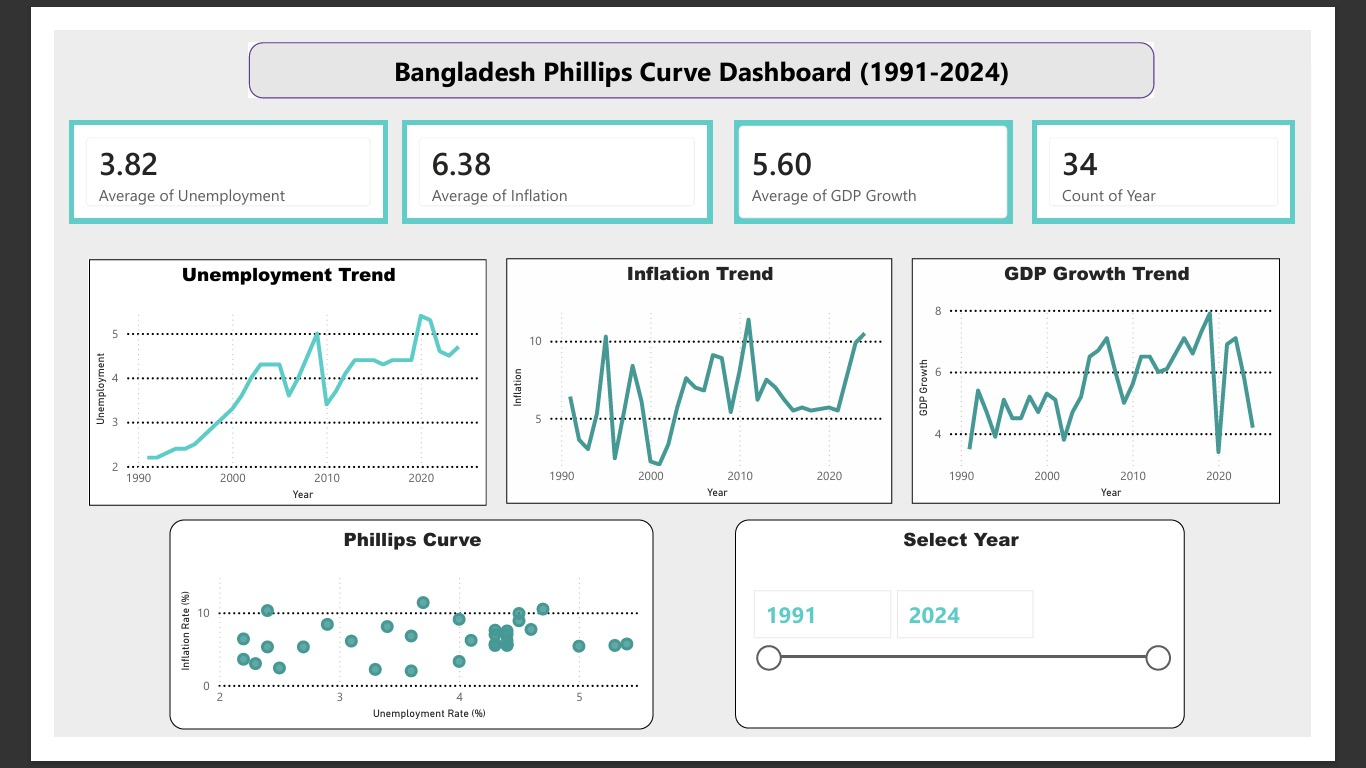

The dashboard page shown, as its layout file describes it:
{"tool":"powerbi","page":{"name":"Page 1","canvas":[1280,720],"ordinal":0},"visuals":[{"type":"cardVisual","fields":{"Data":["Avg(Cleaned_ Data.Unemployment)"]},"box":[15.1,92.4,324.2,104.1],"z":0},{"type":"cardVisual","fields":{"Data":["Avg(Cleaned_ Data.Inflation)"]},"box":[354.4,92.4,315.8,104.1],"z":1000},{"type":"cardVisual","fields":{"Data":["CountNonNull(Cleaned_ Data.Year)"]},"box":[996.1,92.4,267.1,104.1],"z":2000},{"type":"lineChart","title":"Unemployment Trend","fields":{"Category":["Cleaned_ Data.Year"],"Y":["Sum(Cleaned_ Data.Unemployment)"]},"box":[35.3,233.5,404.8,250.3],"z":3000},{"type":"lineChart","title":"Inflation Trend","fields":{"Category":["Cleaned_ Data.Year"],"Y":["Sum(Cleaned_ Data.Inflation)"]},"box":[460.3,231.8,393.1,250.3],"z":4000},{"type":"lineChart","title":"GDP Growth Trend","fields":{"Category":["Cleaned_ Data.Year"],"Y":["Sum(Cleaned_ Data.GDP Growth)"]},"box":[873.5,231.8,374.6,250.3],"z":5000},{"type":"scatterChart","title":"Phillips Curve","fields":{"X":["Sum(Cleaned_ Data.Unemployment)"],"Y":["Sum(Cleaned_ Data.Inflation)"],"Category":["Cleaned_ Data.Year"]},"box":[116.6,498.2,493.9,213.3],"z":6000},{"type":"slicer","title":"Select Year","fields":{"Values":["Cleaned_ Data.Year"]},"box":[692.6,498.2,457.9,213.1],"z":7000},{"type":"cardVisual","fields":{"Data":["Avg(Cleaned_ Data.GDP Growth)"]},"box":[692.1,92.4,283.9,104.1],"z":8000},{"type":"shape","box":[198.2,11.8,922.2,57.1],"z":9000}]}

Visuals, with their boxes in screenshot pixels (x1, y1, x2, y2), scaled from the page's 1280x720 canvas onto the 1366x768 screenshot:
cardVisual - Avg(Cleaned_ Data.Unemployment): {"x1": 16, "y1": 99, "x2": 362, "y2": 210}
cardVisual - Avg(Cleaned_ Data.Inflation): {"x1": 378, "y1": 99, "x2": 715, "y2": 210}
cardVisual - CountNonNull(Cleaned_ Data.Year): {"x1": 1063, "y1": 99, "x2": 1348, "y2": 210}
"Unemployment Trend" lineChart: {"x1": 38, "y1": 249, "x2": 470, "y2": 516}
"Inflation Trend" lineChart: {"x1": 491, "y1": 247, "x2": 911, "y2": 514}
"GDP Growth Trend" lineChart: {"x1": 932, "y1": 247, "x2": 1332, "y2": 514}
"Phillips Curve" scatterChart: {"x1": 124, "y1": 531, "x2": 652, "y2": 759}
"Select Year" slicer: {"x1": 739, "y1": 531, "x2": 1228, "y2": 759}
cardVisual - Avg(Cleaned_ Data.GDP Growth): {"x1": 739, "y1": 99, "x2": 1042, "y2": 210}
shape: {"x1": 212, "y1": 13, "x2": 1196, "y2": 73}
